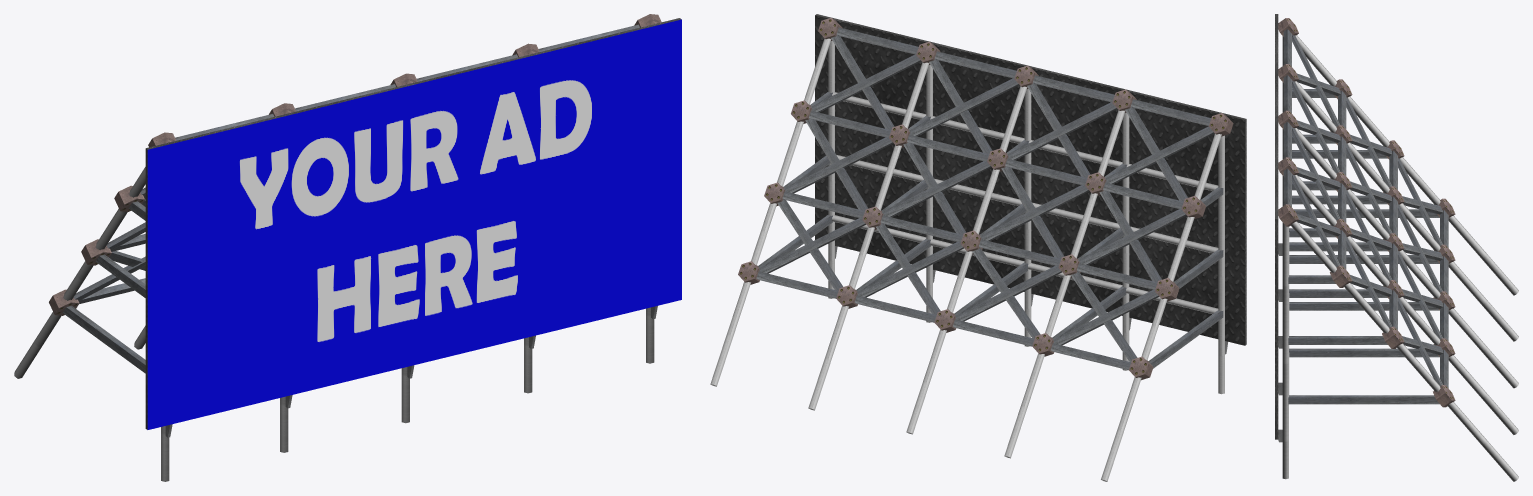
File: billboard_01.fbx
3 renders of one model, left to right at view 1: azimuth 30°, elevation 25°; view 2: azimuth 150°, elevation 25°; view 3: azimuth 270°, elevation 25°, orthographic. The views are drawn at different scales.
Parts seen in each view (by area): view 1: polySurface52, pCylinder132, pCube478, pCylinder130, pCylinder129, pCylinder131; view 2: polySurface52, pCube478, pCylinder130, pCylinder132, pCylinder129, pCylinder131, pCylinder133; view 3: pCylinder130, pCube478, pCylinder131, pCylinder129, pCylinder132, polySurface52, pCube468.
Boxes of the visible parts, x1,y1,x2,y2 form: polySurface52: (145,18,681,429); pCylinder132: (14,132,175,481); pCube478: (73,84,395,452); pCylinder130: (417,24,639,393); pCylinder129: (390,73,417,423); pCylinder131: (634,14,661,363); polySurface52: (815,14,1246,345); pCube478: (953,75,1214,458); pCylinder130: (756,27,1019,410); pCylinder132: (1101,113,1233,481); pCylinder129: (906,65,1038,434); pCylinder131: (710,17,842,386); pCylinder133: (832,92,1218,314); pCylinder130: (1278,121,1518,434); pCube478: (1278,29,1518,341); pCylinder131: (1278,204,1518,481); pCylinder129: (1278,110,1518,388); pCylinder132: (1278,18,1518,295); polySurface52: (1275,14,1278,439); pCube468: (1278,243,1282,442).
Size of the model in its own units: 90.66 by 57.1 by 45.54.
